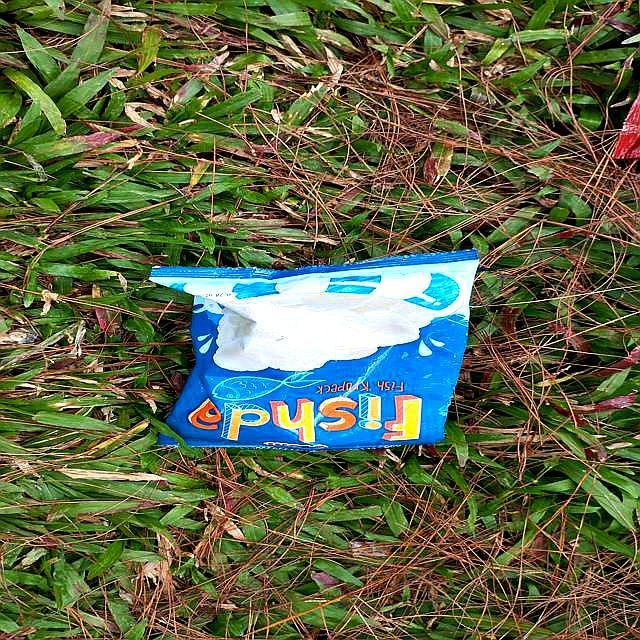Non-biodegradable: (148, 248, 481, 454)
